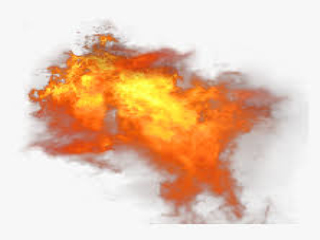fire: (32, 29, 278, 213)
